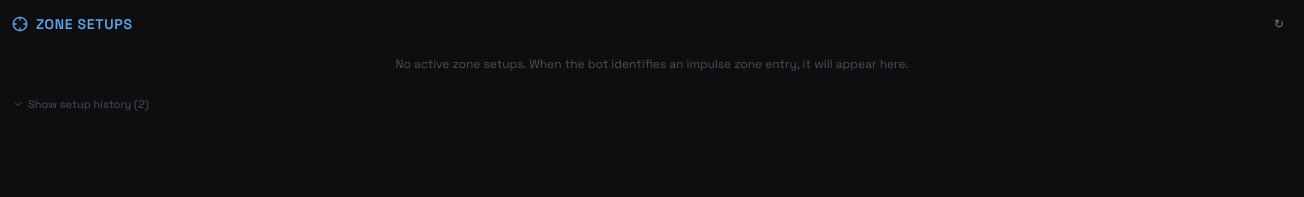
it: unfilled orders say why › refined-zone failure and direction flip are named
The image size is (1304, 197).
Click the button "Show setup history (2)": (80, 104) [12,96,149,112]
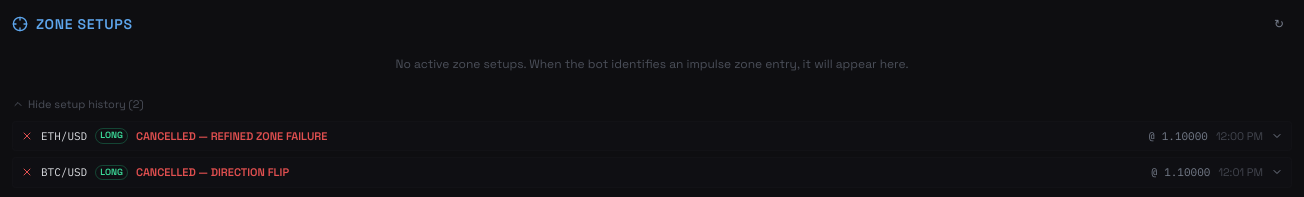
Result: the text "CANCELLED — REFINED ZONE FAILURE" is shown at [136,128,327,144]
Result: the text "CANCELLED — DIRECTION FLIP" is shown at [136,164,289,180]
